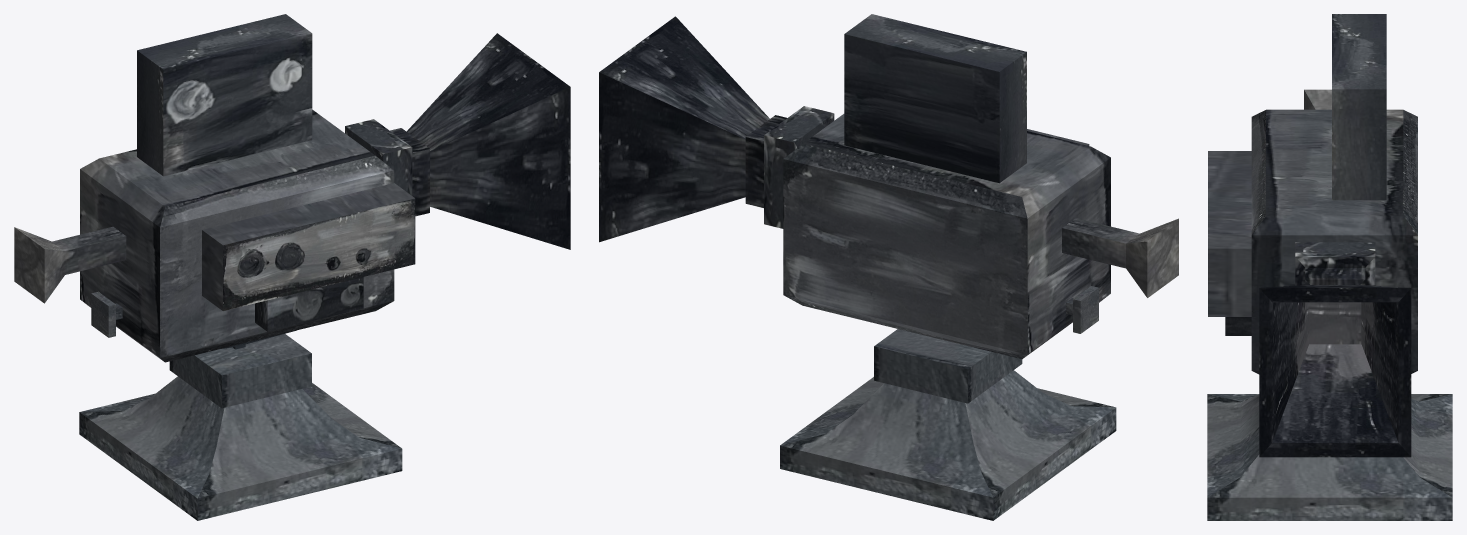
File: Projector_1.fbx
The picture shows the model from 3 angles, left to right: view 1: azimuth 30°, elevation 25°; view 2: azimuth 150°, elevation 25°; view 3: azimuth 270°, elevation 25°; orthographic projection. The views are drawn at different scales.
Parts seen in each view (by area): view 1: pCube5; view 2: pCube5; view 3: pCube5.
Boxes of the visible parts, x1,y1,x2,y2 form: pCube5: [14, 14, 570, 520]; pCube5: [599, 14, 1178, 520]; pCube5: [1207, 14, 1452, 520].
Size of the model in its own units: 49.29 by 37.46 by 20.
